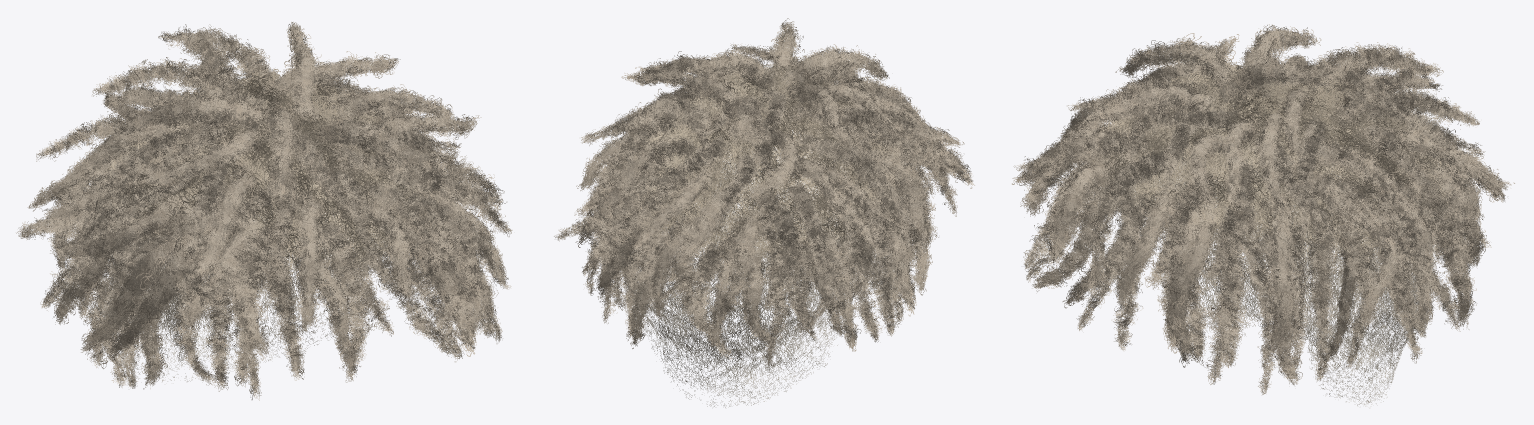
Rendered from dint_hair_34.glb.
3 renders of one model, left to right at view 1: azimuth 30°, elevation 25°; view 2: azimuth 150°, elevation 25°; view 3: azimuth 270°, elevation 25°, orthographic. The views are drawn at different scales.
Visible parts, largest first — view 1: TopLb_TopLb, TopLa_TopLa, TopRb_TopRb, TopRa_TopRa, HL2_HL2, RLb_RLb, FBb_FBb, RLa_RLa, FBa_FBa, HL1_HL1; view 2: TopLb_TopLb, TopLa_TopLa, TopRb_TopRb, HL2_HL2, TopRa_TopRa, HL1_HL1, RLb_RLb, FBb_FBb, FBa_FBa, RLa_RLa; view 3: TopRb_TopRb, TopRa_TopRa, HL2_HL2, RLb_RLb, RLa_RLa, TopLb_TopLb, HL1_HL1, TopLa_TopLa, FBb_FBb, FBa_FBa.
Part boxes in pixels (left/top/right/bottom): TopLb_TopLb: left=16, top=57, right=393, bottom=360; TopLa_TopLa: left=63, top=63, right=368, bottom=307; TopRb_TopRb: left=149, top=22, right=512, bottom=310; TopRa_TopRa: left=143, top=35, right=491, bottom=258; HL2_HL2: left=105, top=72, right=438, bottom=277; RLb_RLb: left=53, top=209, right=502, bottom=400; FBb_FBb: left=70, top=236, right=476, bottom=382; RLa_RLa: left=79, top=173, right=476, bottom=324; FBa_FBa: left=91, top=158, right=454, bottom=321; HL1_HL1: left=113, top=156, right=422, bottom=386; TopLb_TopLb: left=653, top=45, right=974, bottom=333; TopLa_TopLa: left=688, top=44, right=930, bottom=283; TopRb_TopRb: left=554, top=18, right=864, bottom=320; HL2_HL2: left=610, top=62, right=901, bottom=262; TopRa_TopRa: left=600, top=31, right=833, bottom=249; HL1_HL1: left=626, top=164, right=878, bottom=407; RLb_RLb: left=583, top=143, right=957, bottom=351; FBb_FBb: left=592, top=125, right=962, bottom=369; FBa_FBa: left=620, top=119, right=929, bottom=308; RLa_RLa: left=597, top=135, right=931, bottom=297; TopRb_TopRb: left=1012, top=42, right=1514, bottom=358; TopRa_TopRa: left=1062, top=46, right=1458, bottom=275; HL2_HL2: left=1087, top=62, right=1450, bottom=258; RLb_RLb: left=1062, top=162, right=1433, bottom=394; RLa_RLa: left=1108, top=119, right=1433, bottom=310; TopLb_TopLb: left=1020, top=25, right=1491, bottom=251; HL1_HL1: left=1183, top=138, right=1437, bottom=408; TopLa_TopLa: left=1057, top=24, right=1479, bottom=199; FBb_FBb: left=1019, top=146, right=1476, bottom=331; FBa_FBa: left=1052, top=122, right=1467, bottom=278.
Bounding box in the file's own units: 0.2445 × 0.2224 × 0.2843.
Materials: 10 (10 with a texture image).
